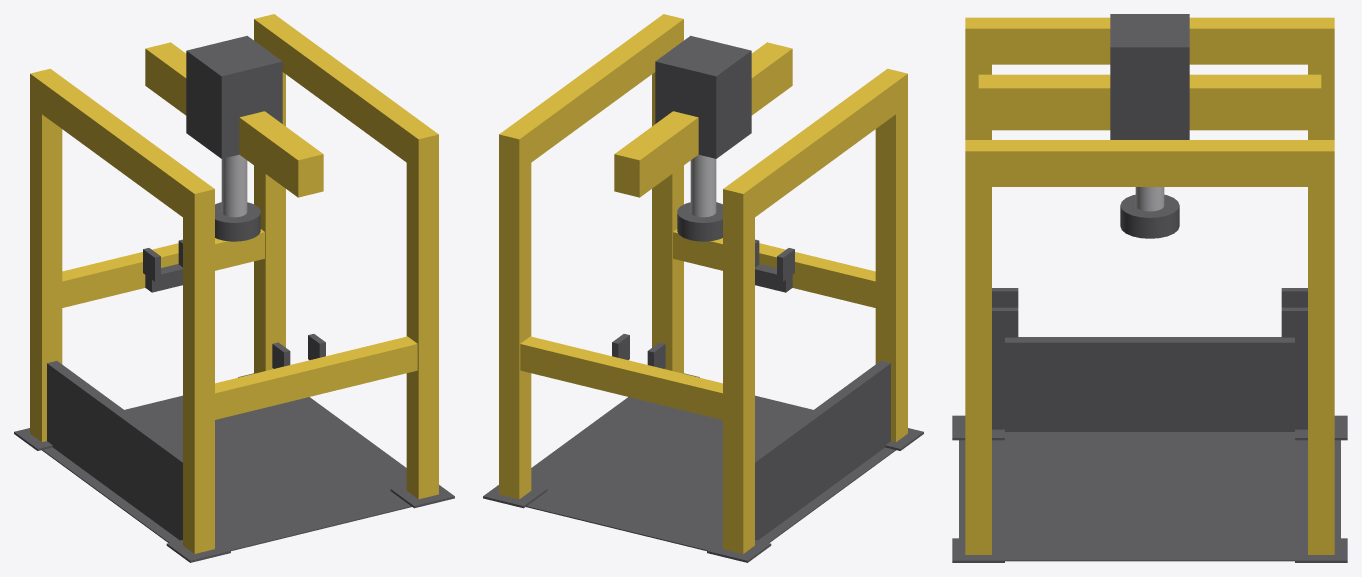
Rendered from SM_PotSkullingStation.fbx.
3 renders of one model, left to right at view 1: azimuth 30°, elevation 25°; view 2: azimuth 150°, elevation 25°; view 3: azimuth 270°, elevation 25°, orthographic. The views are drawn at different scales.
Parts seen in each view (by area): view 1: PSS_Frame, PSS_Ram; view 2: PSS_Frame, PSS_Ram; view 3: PSS_Frame, PSS_Ram.
Boxes of the visible parts, <box> form: PSS_Frame: <box>14,14,454,562</box>; PSS_Ram: <box>215,154,260,241</box>; PSS_Frame: <box>483,14,923,562</box>; PSS_Ram: <box>677,154,722,241</box>; PSS_Frame: <box>952,14,1347,562</box>; PSS_Ram: <box>1120,187,1179,238</box>.
Size of the model in its own units: 520 by 772 by 600.
